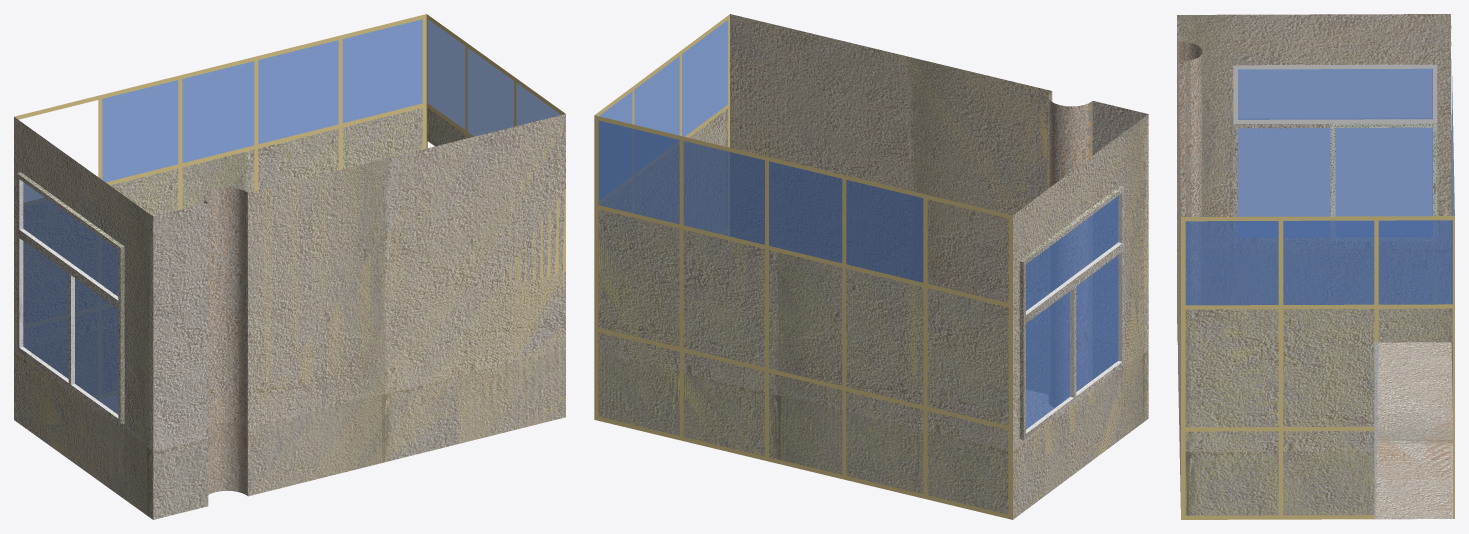
Rendered from DES024.obj.
The picture shows the model from 3 angles, left to right: view 1: azimuth 30°, elevation 25°; view 2: azimuth 150°, elevation 25°; view 3: azimuth 270°, elevation 25°; orthographic projection.
Visible parts, largest first — view 1: Mesh7 DES024 Model, Mesh1 ventana1_2_1 DES024 Model; view 2: Mesh7 DES024 Model, Mesh1 ventana1_2_1 DES024 Model; view 3: Mesh7 DES024 Model, Mesh1 ventana1_2_1 DES024 Model.
Part boxes in pixels (<box>): Mesh7 DES024 Model: <box>14,14,565,519</box>; Mesh1 ventana1_2_1 DES024 Model: <box>17,172,124,424</box>; Mesh7 DES024 Model: <box>594,14,1148,519</box>; Mesh1 ventana1_2_1 DES024 Model: <box>1019,185,1124,439</box>; Mesh7 DES024 Model: <box>1177,14,1454,519</box>; Mesh1 ventana1_2_1 DES024 Model: <box>1233,64,1437,241</box>.
Bounding box in the file's own units: 5.22 × 3.6 × 2.99.
Materials: 11 (2 with a texture image).
